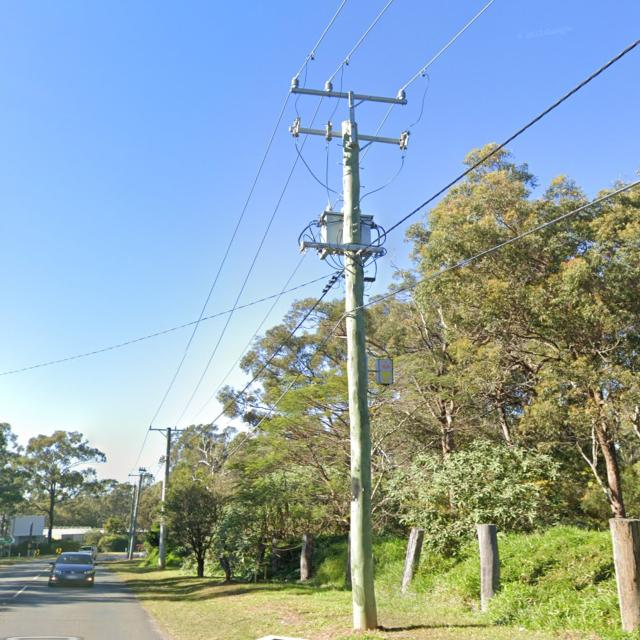HV-switch: (138, 467, 147, 472)
HV-transmission: (288, 76, 411, 150), (150, 425, 188, 432), (128, 474, 153, 477)
crossarm: (289, 126, 404, 145), (292, 88, 407, 105), (300, 241, 384, 255), (150, 429, 188, 431), (128, 475, 152, 476)
timber-pole: (342, 119, 378, 631), (157, 427, 172, 568), (127, 473, 143, 561)
transformer: (317, 208, 375, 248)
